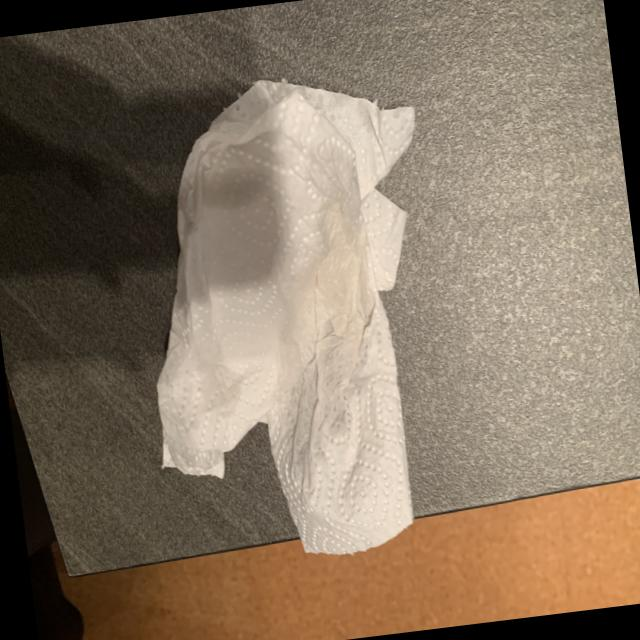organic waste: (107, 54, 467, 578)
